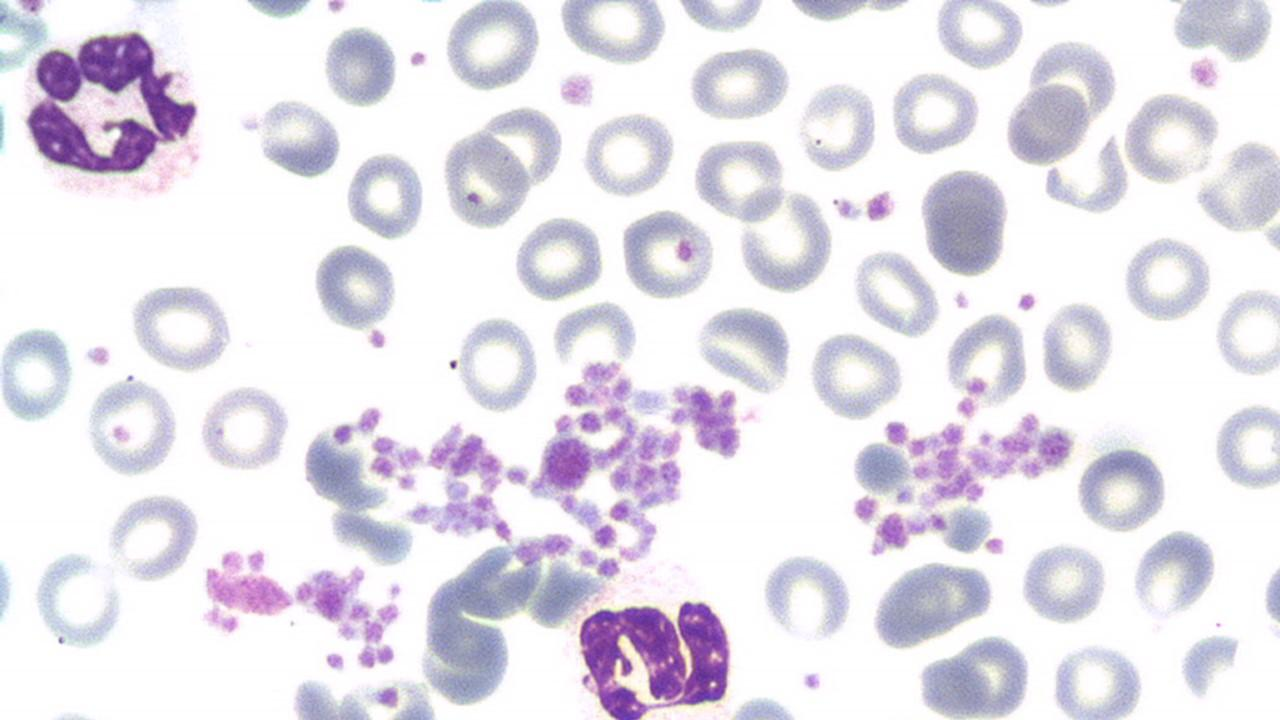Platelets: (1035, 422, 1077, 472), (554, 67, 598, 110), (1184, 52, 1224, 92), (876, 510, 910, 553), (198, 602, 240, 636), (862, 188, 898, 227), (714, 421, 744, 462), (80, 339, 115, 371), (354, 402, 386, 436), (370, 680, 403, 712), (830, 195, 866, 224), (850, 495, 882, 525), (218, 546, 246, 578), (374, 600, 404, 628), (502, 461, 532, 489), (882, 419, 912, 446), (1258, 219, 1280, 255), (244, 546, 271, 574), (1016, 409, 1042, 438), (404, 500, 435, 524), (362, 325, 389, 352), (799, 667, 825, 695), (330, 420, 356, 447), (322, 648, 350, 673), (1018, 455, 1044, 481), (374, 642, 399, 667), (1013, 290, 1039, 314), (956, 396, 980, 420), (950, 288, 972, 312), (895, 486, 915, 506), (386, 579, 405, 600), (870, 533, 888, 555)
RBC: (733, 184, 835, 296), (916, 165, 1014, 278), (126, 278, 238, 374), (27, 545, 127, 652), (82, 374, 181, 479), (756, 548, 856, 646), (1120, 91, 1220, 186), (103, 490, 203, 584), (694, 302, 796, 394), (440, 128, 532, 230), (618, 207, 718, 300), (440, 1, 542, 92), (806, 330, 906, 420), (195, 384, 292, 476), (578, 110, 678, 199), (850, 246, 943, 340), (1128, 526, 1218, 623), (689, 135, 788, 222), (1192, 137, 1280, 234), (686, 44, 792, 124), (1120, 232, 1212, 324), (1075, 444, 1169, 534), (309, 240, 400, 332), (456, 312, 538, 414), (868, 563, 960, 653), (511, 213, 606, 300), (0, 320, 76, 428), (477, 101, 566, 193), (794, 77, 880, 172), (886, 70, 982, 155), (1047, 639, 1149, 718), (1018, 540, 1110, 626), (1002, 79, 1090, 168), (943, 310, 1027, 403), (344, 147, 428, 240), (557, 0, 669, 66), (255, 97, 344, 180), (1039, 298, 1115, 394), (319, 21, 401, 108), (1211, 398, 1280, 495), (1170, 3, 1278, 63), (1213, 283, 1279, 380), (932, 1, 1025, 69), (915, 648, 999, 716), (1173, 632, 1241, 702), (672, 0, 772, 33), (848, 439, 908, 494), (726, 690, 800, 718), (289, 676, 337, 718), (1259, 547, 1280, 642), (237, 0, 315, 21), (0, 545, 17, 633)
WBC: (10, 14, 213, 214), (570, 564, 742, 720)
